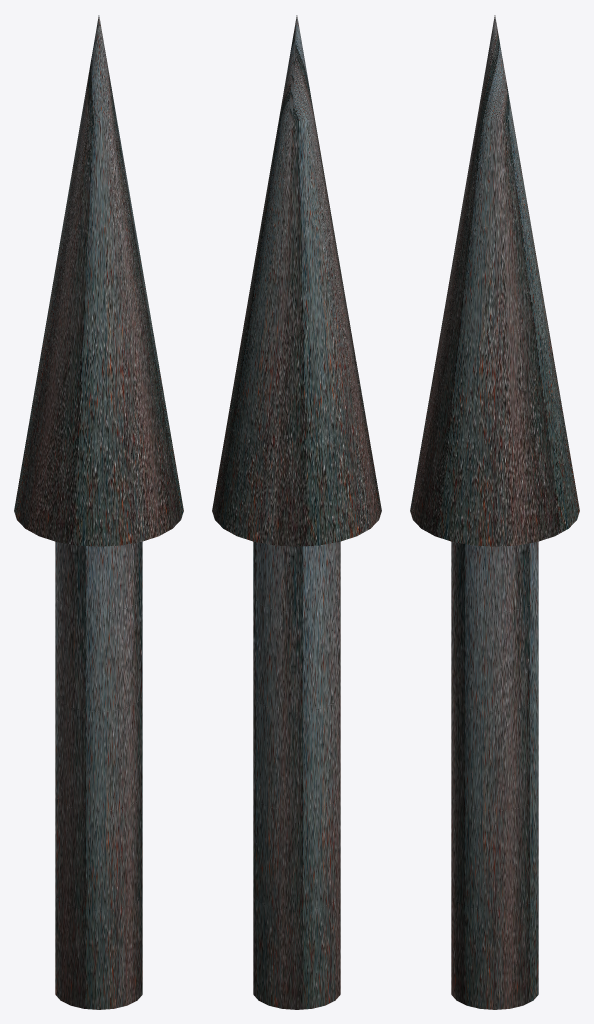
The model's file is arrow1.FBX.
The picture shows the model from 3 angles, left to right: view 1: azimuth 30°, elevation 25°; view 2: azimuth 150°, elevation 25°; view 3: azimuth 270°, elevation 25°; orthographic projection.
Parts seen in each view (by area): view 1: Cone001; view 2: Cone001; view 3: Cone001.
Part boxes in pixels (bbox=[...]): Cone001: bbox=[14, 15, 183, 1009]; Cone001: bbox=[212, 15, 381, 1009]; Cone001: bbox=[410, 15, 579, 1009].
Size of the model in its own units: 0.3553 by 2.26 by 0.3553.
Materials: 1 (1 with a texture image).
